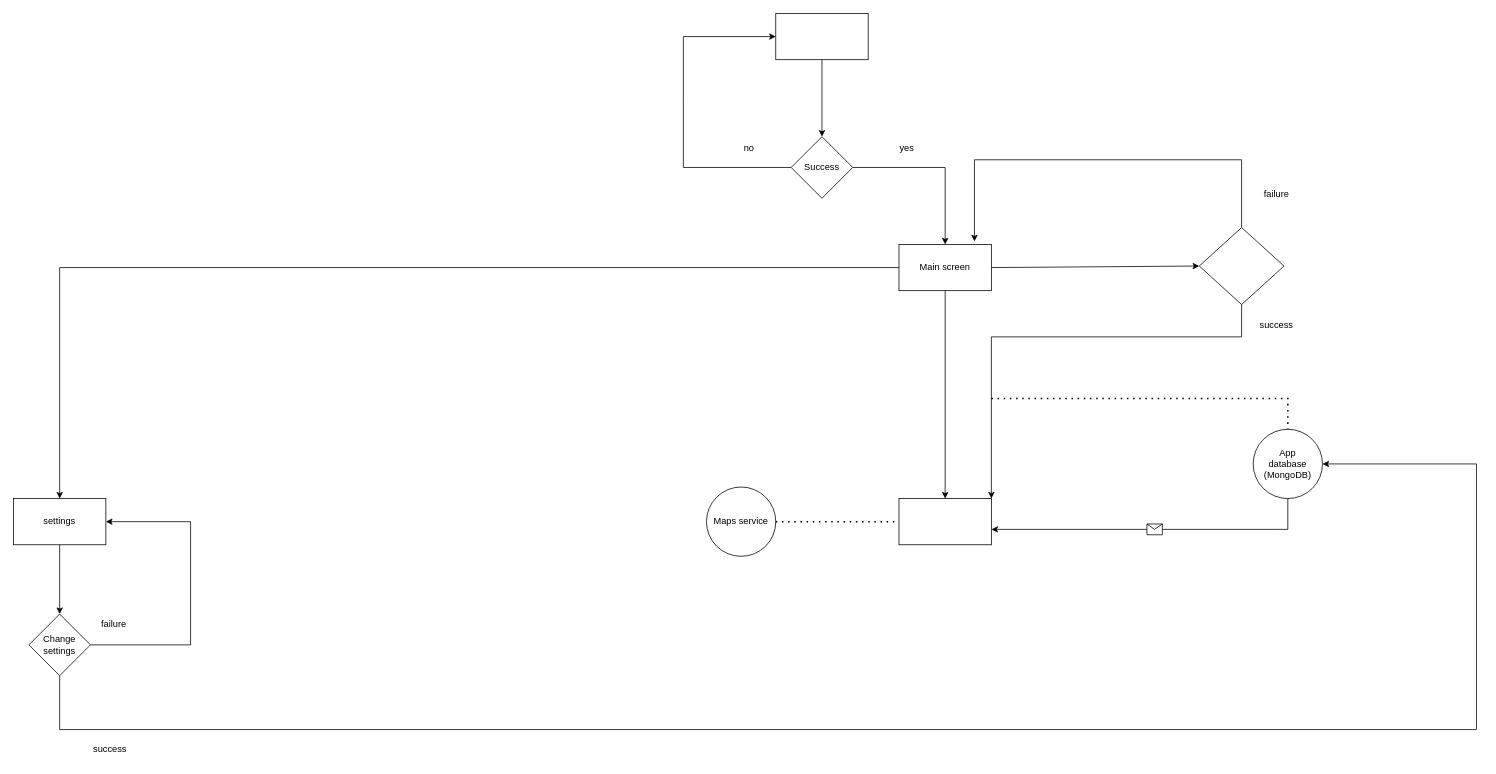
The diagram is 1496 pixels wide and 774 high, and some of its shapes have lost their labels. Each missing label, with the box of its shape:
Authentication (via Google): (775, 13, 868, 60)
Map: (898, 498, 991, 545)
Send photo/ story: (1199, 227, 1284, 305)
